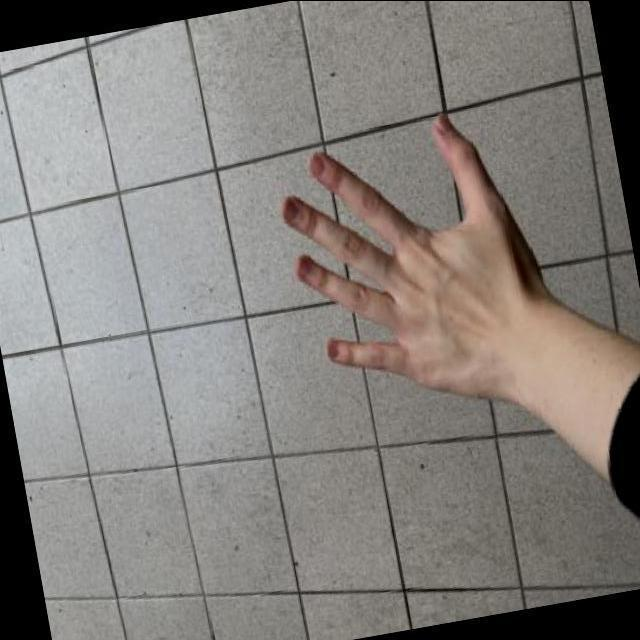hand: (255, 84, 588, 464)
